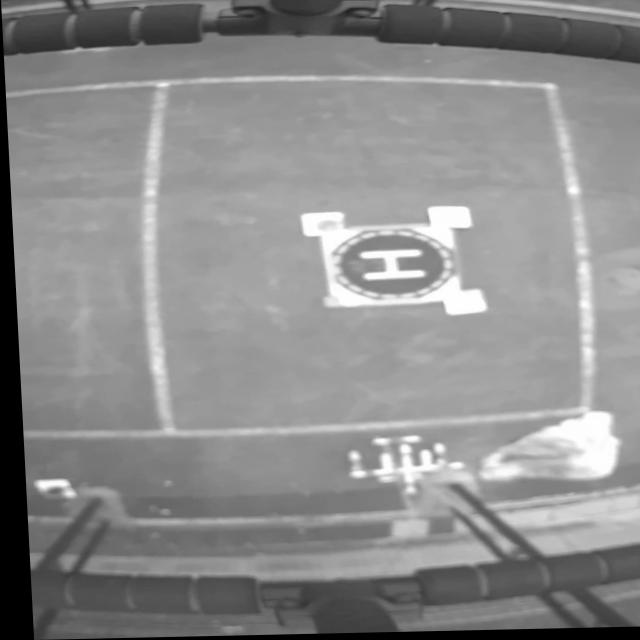Helipad: (356, 250, 424, 282)
